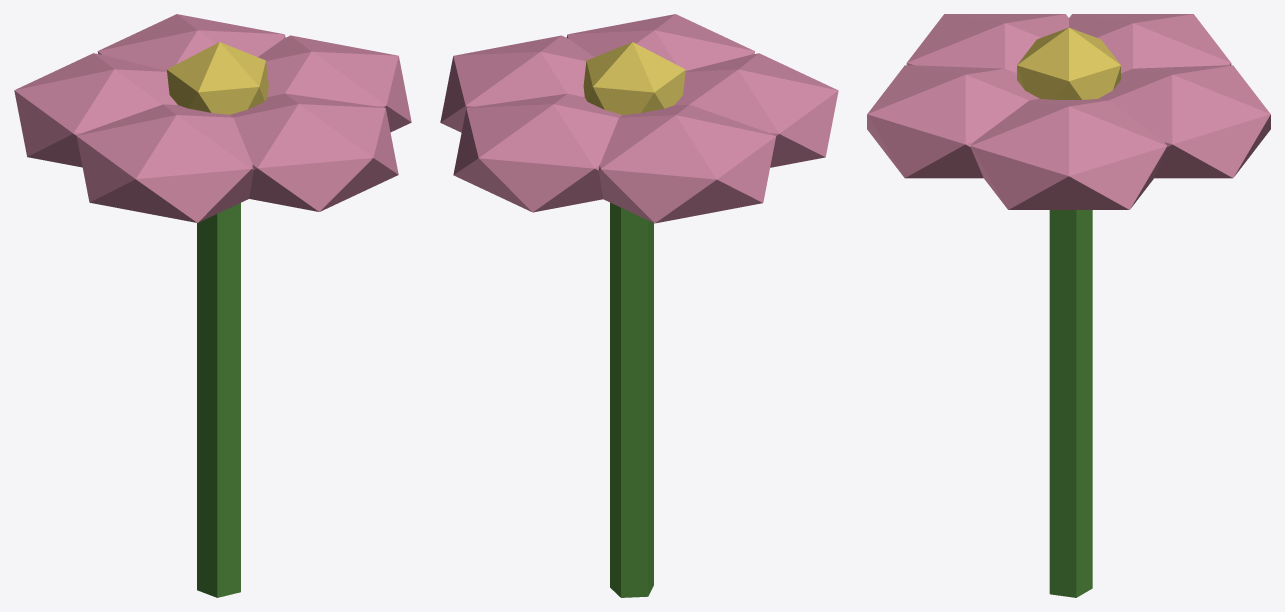
File: flower.glb
3 renders of one model, left to right at view 1: azimuth 30°, elevation 25°; view 2: azimuth 150°, elevation 25°; view 3: azimuth 270°, elevation 25°, orthographic. The views are drawn at different scales.
Visible parts, largest first — view 1: Cylinder; view 2: Cylinder; view 3: Cylinder.
Part boxes in pixels (x1,y1,x2,y2): Cylinder: (14, 14, 411, 597); Cylinder: (440, 14, 838, 597); Cylinder: (867, 14, 1270, 597).
Bounding box in the file's own units: 0.2493 × 0.3822 × 0.2493.
